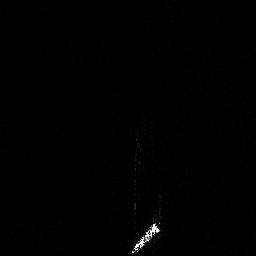ship: (128, 219, 162, 256)
